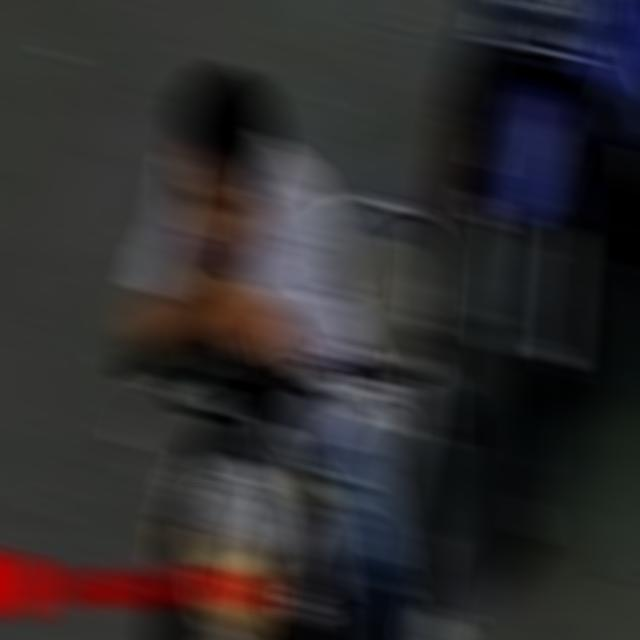Without Helmet: (157, 59, 280, 278)
